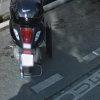Motorcycle: (3, 2, 52, 89)
